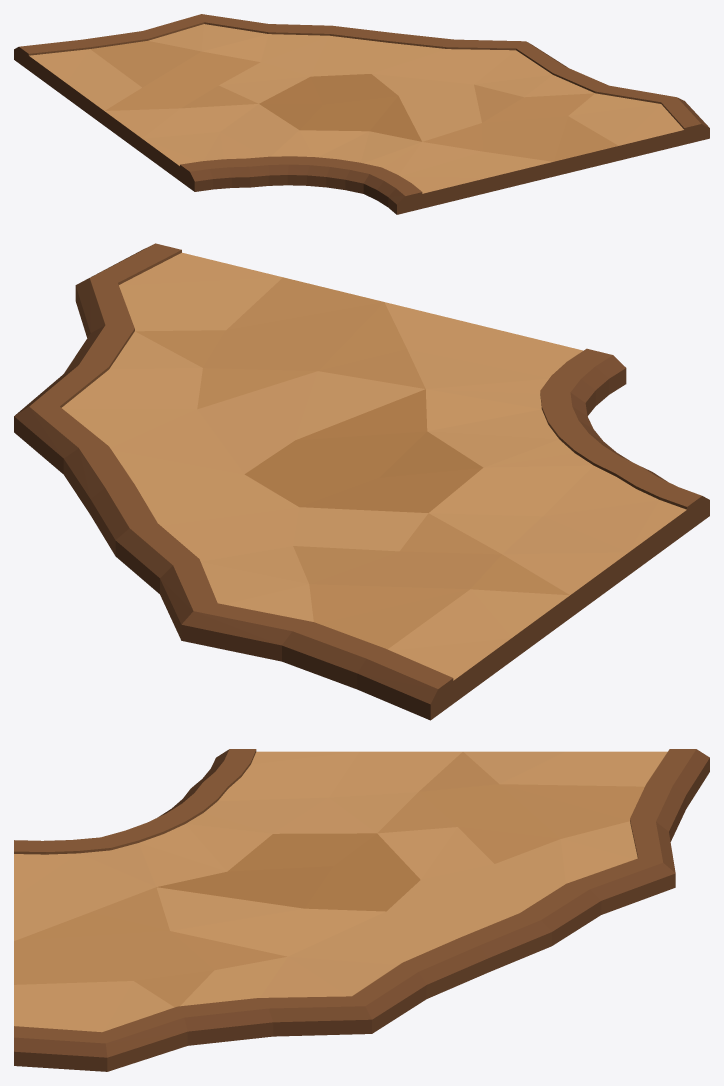
The model's file is FMS_Path_Dirt_Curve.fbx.
3 renders of one model, top to bottom at view 1: azimuth 30°, elevation 25°; view 2: azimuth 150°, elevation 25°; view 3: azimuth 270°, elevation 25°, orthographic. The views are drawn at different scales.
Parts seen in each view (by area): view 1: FMS_Path_Dirt_Curve; view 2: FMS_Path_Dirt_Curve; view 3: FMS_Path_Dirt_Curve.
Part boxes in pixels (x1=…): FMS_Path_Dirt_Curve: x1=14, y1=14, x2=709, y2=214; FMS_Path_Dirt_Curve: x1=14, y1=243, x2=709, y2=720; FMS_Path_Dirt_Curve: x1=14, y1=749, x2=709, y2=1071.
Bounding box in the file's own units: 1.58 × 0.056 × 1.55.
